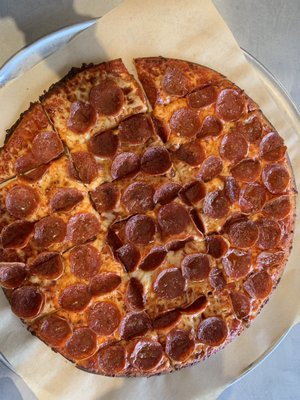sandwich: (0, 44, 299, 395)
